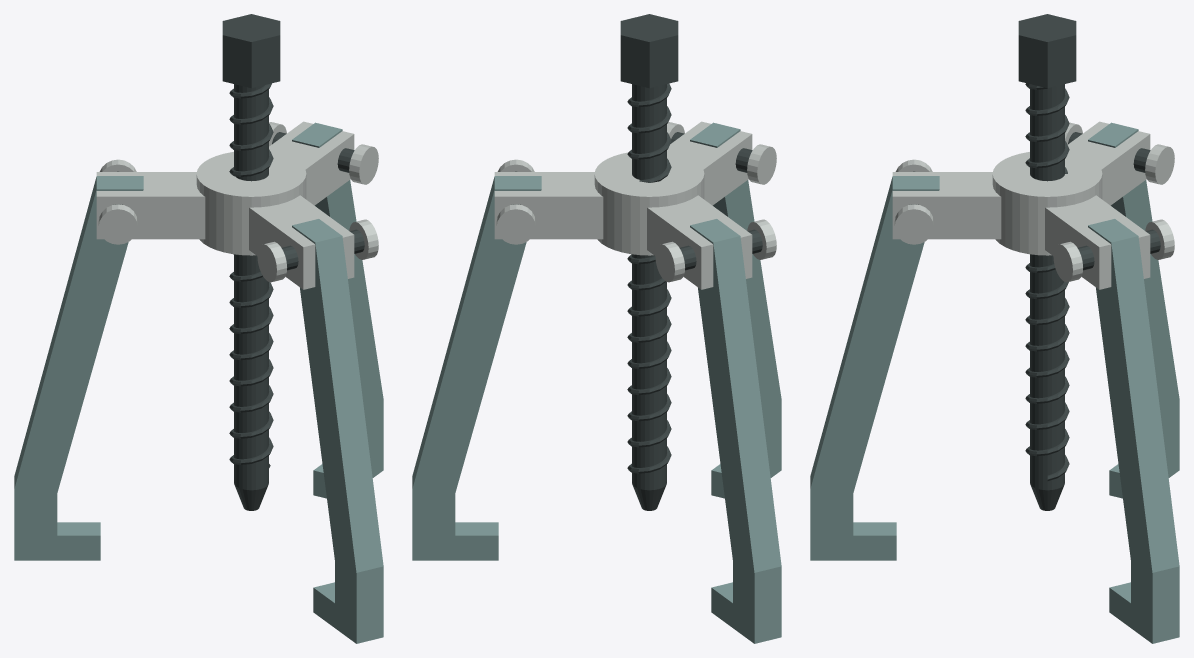
3 renders of one model, left to right at view 1: azimuth 30°, elevation 25°; view 2: azimuth 150°, elevation 25°; view 3: azimuth 270°, elevation 25°, orthographic.
Visible parts, largest first — view 1: WholeLongInwardHookJaw_0, WholeLongInwardHookJaw_2, WholeCentralPressureSpindle, WholeBoredCentralYokeBoss, WholeLongInwardHookJaw_1, WholeRadialYokeArm_2, WholeRadialYokeArm_0, WholeUpperHexDriveHead, WholeFixedVisualHelicalRidge, WholeRadialYokeArm_1, WholeJawPinCap_(2, 1), WholeJawPinCap_(0, 0) (+3 smaller); view 2: WholeLongInwardHookJaw_2, WholeLongInwardHookJaw_1, WholeCentralPressureSpindle, WholeBoredCentralYokeBoss, WholeLongInwardHookJaw_0, WholeRadialYokeArm_1, WholeRadialYokeArm_2, WholeUpperHexDriveHead, WholeFixedVisualHelicalRidge, WholeRadialYokeArm_0, WholeJawPinCap_(1, 1), WholeJawPinCap_(0, 0) (+3 smaller); view 3: WholeLongInwardHookJaw_1, WholeLongInwardHookJaw_0, WholeCentralPressureSpindle, WholeBoredCentralYokeBoss, WholeLongInwardHookJaw_2, WholeRadialYokeArm_0, WholeRadialYokeArm_1, WholeUpperHexDriveHead, WholeFixedVisualHelicalRidge, WholeRadialYokeArm_2, WholeJawPinCap_(0, 1), WholeJawPinCap_(1, 0) (+3 smaller).
Part boxes in pixels (x1,y1,x2,y2): WholeLongInwardHookJaw_0: (292, 219, 383, 643); WholeLongInwardHookJaw_2: (14, 176, 143, 560); WholeCentralPressureSpindle: (234, 84, 268, 510); WholeBoredCentralYokeBoss: (196, 152, 306, 255); WholeLongInwardHookJaw_1: (292, 122, 383, 498); WholeRadialYokeArm_2: (96, 172, 205, 239); WholeRadialYokeArm_0: (249, 195, 354, 289); WholeUpperHexDriveHead: (222, 14, 280, 88); WholeFixedVisualHelicalRidge: (229, 83, 273, 467); WholeRadialYokeArm_1: (269, 121, 354, 205); WholeJawPinCap_(2, 1): (98, 204, 137, 244); WholeJawPinCap_(0, 0): (257, 241, 286, 282); WholeLongInwardHookJaw_2: (690, 219, 781, 643); WholeLongInwardHookJaw_1: (412, 176, 541, 560); WholeCentralPressureSpindle: (632, 84, 666, 510); WholeBoredCentralYokeBoss: (594, 152, 704, 255); WholeLongInwardHookJaw_0: (690, 122, 781, 498); WholeRadialYokeArm_1: (494, 172, 603, 239); WholeRadialYokeArm_2: (647, 195, 752, 289); WholeUpperHexDriveHead: (620, 14, 678, 88); WholeFixedVisualHelicalRidge: (627, 83, 671, 473); WholeRadialYokeArm_0: (667, 121, 752, 205); WholeJawPinCap_(1, 1): (496, 204, 535, 244); WholeJawPinCap_(0, 0): (747, 144, 776, 184); WholeLongInwardHookJaw_1: (1088, 219, 1179, 643); WholeLongInwardHookJaw_0: (810, 176, 939, 560); WholeCentralPressureSpindle: (1030, 84, 1064, 510); WholeBoredCentralYokeBoss: (992, 152, 1102, 255); WholeLongInwardHookJaw_2: (1088, 122, 1179, 498); WholeRadialYokeArm_0: (892, 172, 1001, 239); WholeRadialYokeArm_1: (1045, 195, 1150, 289); WholeUpperHexDriveHead: (1018, 14, 1076, 88); WholeFixedVisualHelicalRidge: (1025, 83, 1069, 480); WholeRadialYokeArm_2: (1067, 121, 1150, 205); WholeJawPinCap_(0, 1): (894, 204, 933, 244); WholeJawPinCap_(1, 0): (1053, 241, 1082, 282).
Bounding box in the file's own units: 0.2176 × 0.296 × 0.1884.
